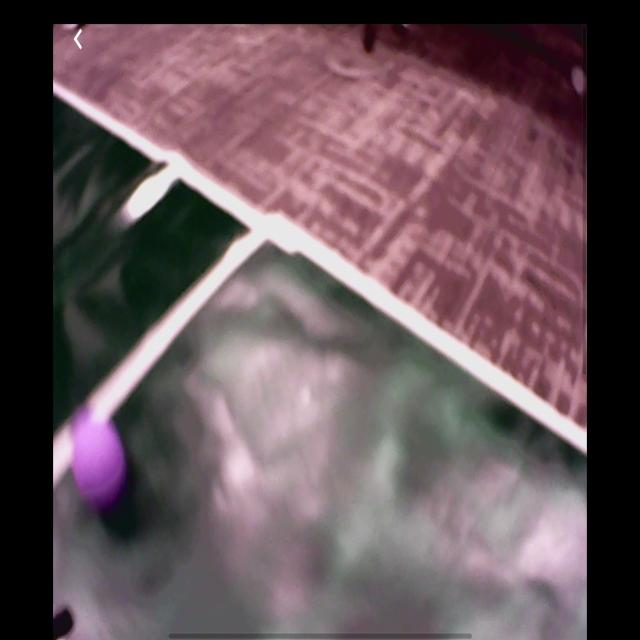ball: (70, 415, 128, 512)
